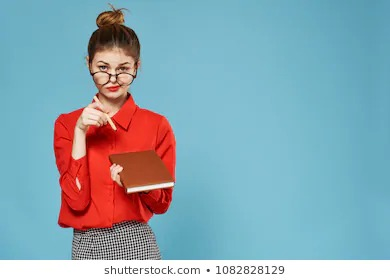C_blouse: (46, 94, 181, 235)
